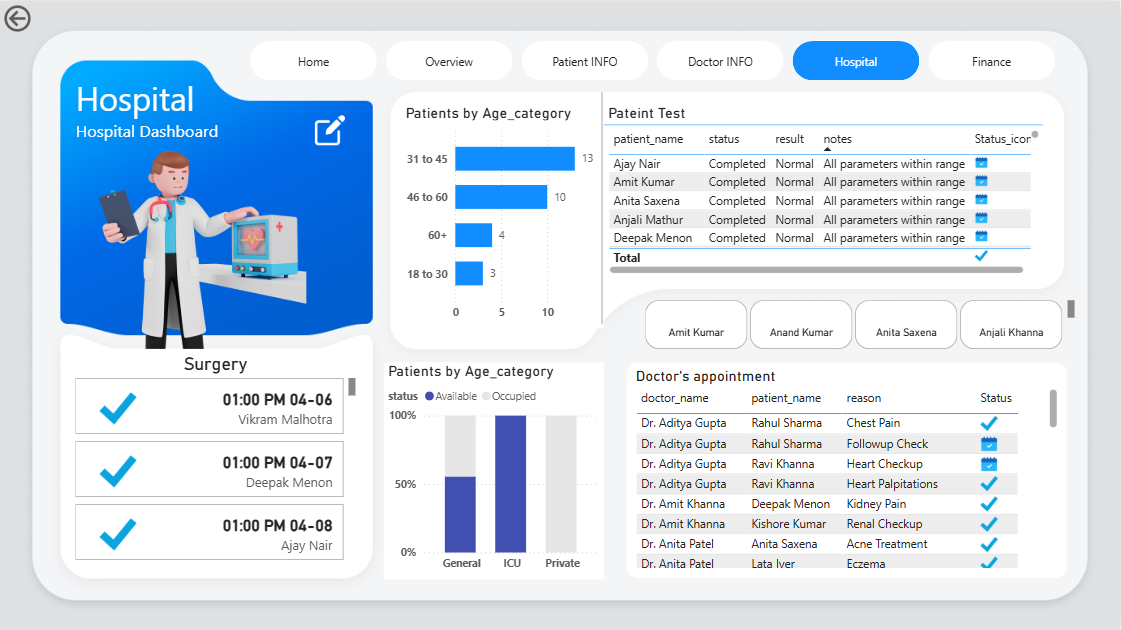

The page's visual inventory and layout, read from the dashboard file:
{"tool":"powerbi","page":{"name":"Hospital","canvas":[1280,720],"ordinal":4},"visuals":[{"type":"group","id":"g1","title":"Group 2","box":[446.7,40.4,90.5,5.2],"z":0,"group":"g2"},{"type":"image","box":[354.3,125.7,45.7,44.3],"z":0},{"type":"image","box":[588.9,40.7,67.9,4.8],"z":1000,"group":"g2"},{"type":"textbox","box":[81.7,81.7,192.6,109.7],"z":1000},{"type":"textbox","box":[446.7,40.4,90.5,5.2],"z":2000,"group":"g1"},{"type":"advancedSlicerVisual","title":"Surgery","fields":{"Values":["patient_info.Surgery_time_date"]},"box":[81.4,402.9,330,243],"z":2000},{"type":"group","id":"g2","title":"Doctor_slicer","box":[446.7,40.4,210,5.2],"z":3000},{"type":"advancedSlicerVisual","title":"Ratings","fields":{"Values":["patient_tests (3).name"]},"box":[733.2,336.7,500.9,66.8],"z":4000},{"type":"tableEx","title":"Doctor''s appointment","fields":{"Values":["patient_info.doctor_name","patient_info.patient_name","appointment.reason","appointment.Status_icon"]},"box":[715.1,413.2,503.7,246.3],"z":5000},{"type":"image","box":[95.3,100.1,259.4,345],"z":6000},{"type":"clusteredBarChart","title":"Patients by Age_category","fields":{"Category":["patient_info.Age_category"],"Y":["_Measures.Patient_count"]},"box":[458.7,117.1,231.5,256.6],"z":7000},{"type":"actionButton","box":[0,0,100,40],"z":8000},{"type":"shape","box":[669.4,103.9,36.1,265.2],"z":9000},{"type":"tableEx","title":"Pateint Test","fields":{"Values":["patient_info.patient_name","patient_tests.status","patient_tests.result","patient_tests.notes","_Measures.Test_Status_icon"]},"box":[690.1,116.9,502.3,199],"z":10000},{"type":"hundredPercentStackedColumnChart","title":"Patients by Age_category","fields":{"Y":["CountNonNull(beds_info.beds)"],"Category":["beds_info.room_type"],"Series":["beds_info.status"]},"box":[438.3,413.2,251.8,247.7],"z":11000},{"type":"pageNavigator","box":[285.7,45.7,922.9,45.7],"z":12000},{"type":"actionButton","box":[275.1,49.5,138.7,39.8],"z":13000},{"type":"actionButton","box":[591.2,50.7,138.7,39.8],"z":14000},{"type":"actionButton","box":[740.8,49.5,138.7,39.8],"z":15000},{"type":"actionButton","box":[1050.8,51.9,138.7,39.8],"z":16000},{"type":"actionButton","box":[430.7,49.5,138.7,39.8],"z":17000}]}

Visuals, with their boxes in screenshot pixels (x1, y1, x2, y2), scaled from the page's 1280x720 canvas onto the 1121x630 screenshot:
"Group 2" group: left=391, top=35, right=470, bottom=40
image: left=310, top=110, right=350, bottom=149
image: left=516, top=36, right=575, bottom=40
textbox: left=72, top=71, right=240, bottom=167
textbox: left=391, top=35, right=470, bottom=40
"Surgery" advancedSlicerVisual: left=71, top=353, right=360, bottom=565
"Doctor_slicer" group: left=391, top=35, right=575, bottom=40
"Ratings" advancedSlicerVisual: left=642, top=295, right=1081, bottom=353
"Doctor''s appointment" tableEx: left=626, top=362, right=1067, bottom=577
image: left=83, top=88, right=311, bottom=389
"Patients by Age_category" clusteredBarChart: left=402, top=102, right=604, bottom=327
actionButton: left=0, top=0, right=88, bottom=35
shape: left=586, top=91, right=618, bottom=323
"Pateint Test" tableEx: left=604, top=102, right=1044, bottom=276
"Patients by Age_category" hundredPercentStackedColumnChart: left=384, top=362, right=604, bottom=578
pageNavigator: left=250, top=40, right=1058, bottom=80
actionButton: left=241, top=43, right=362, bottom=78
actionButton: left=518, top=44, right=639, bottom=79
actionButton: left=649, top=43, right=770, bottom=78
actionButton: left=920, top=45, right=1042, bottom=80
actionButton: left=377, top=43, right=499, bottom=78
